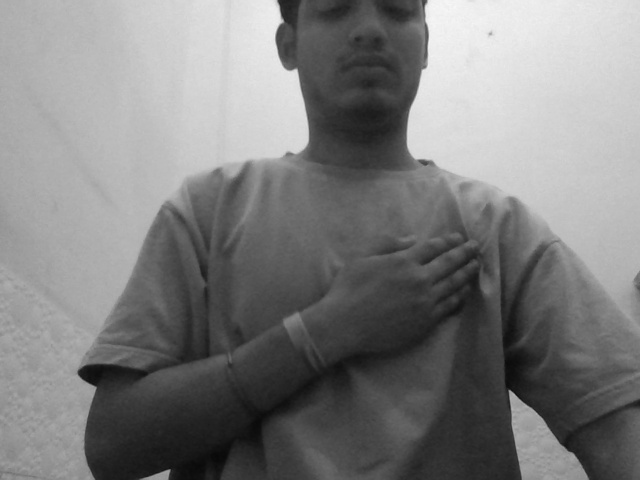Sorry: (295, 208, 529, 399)
